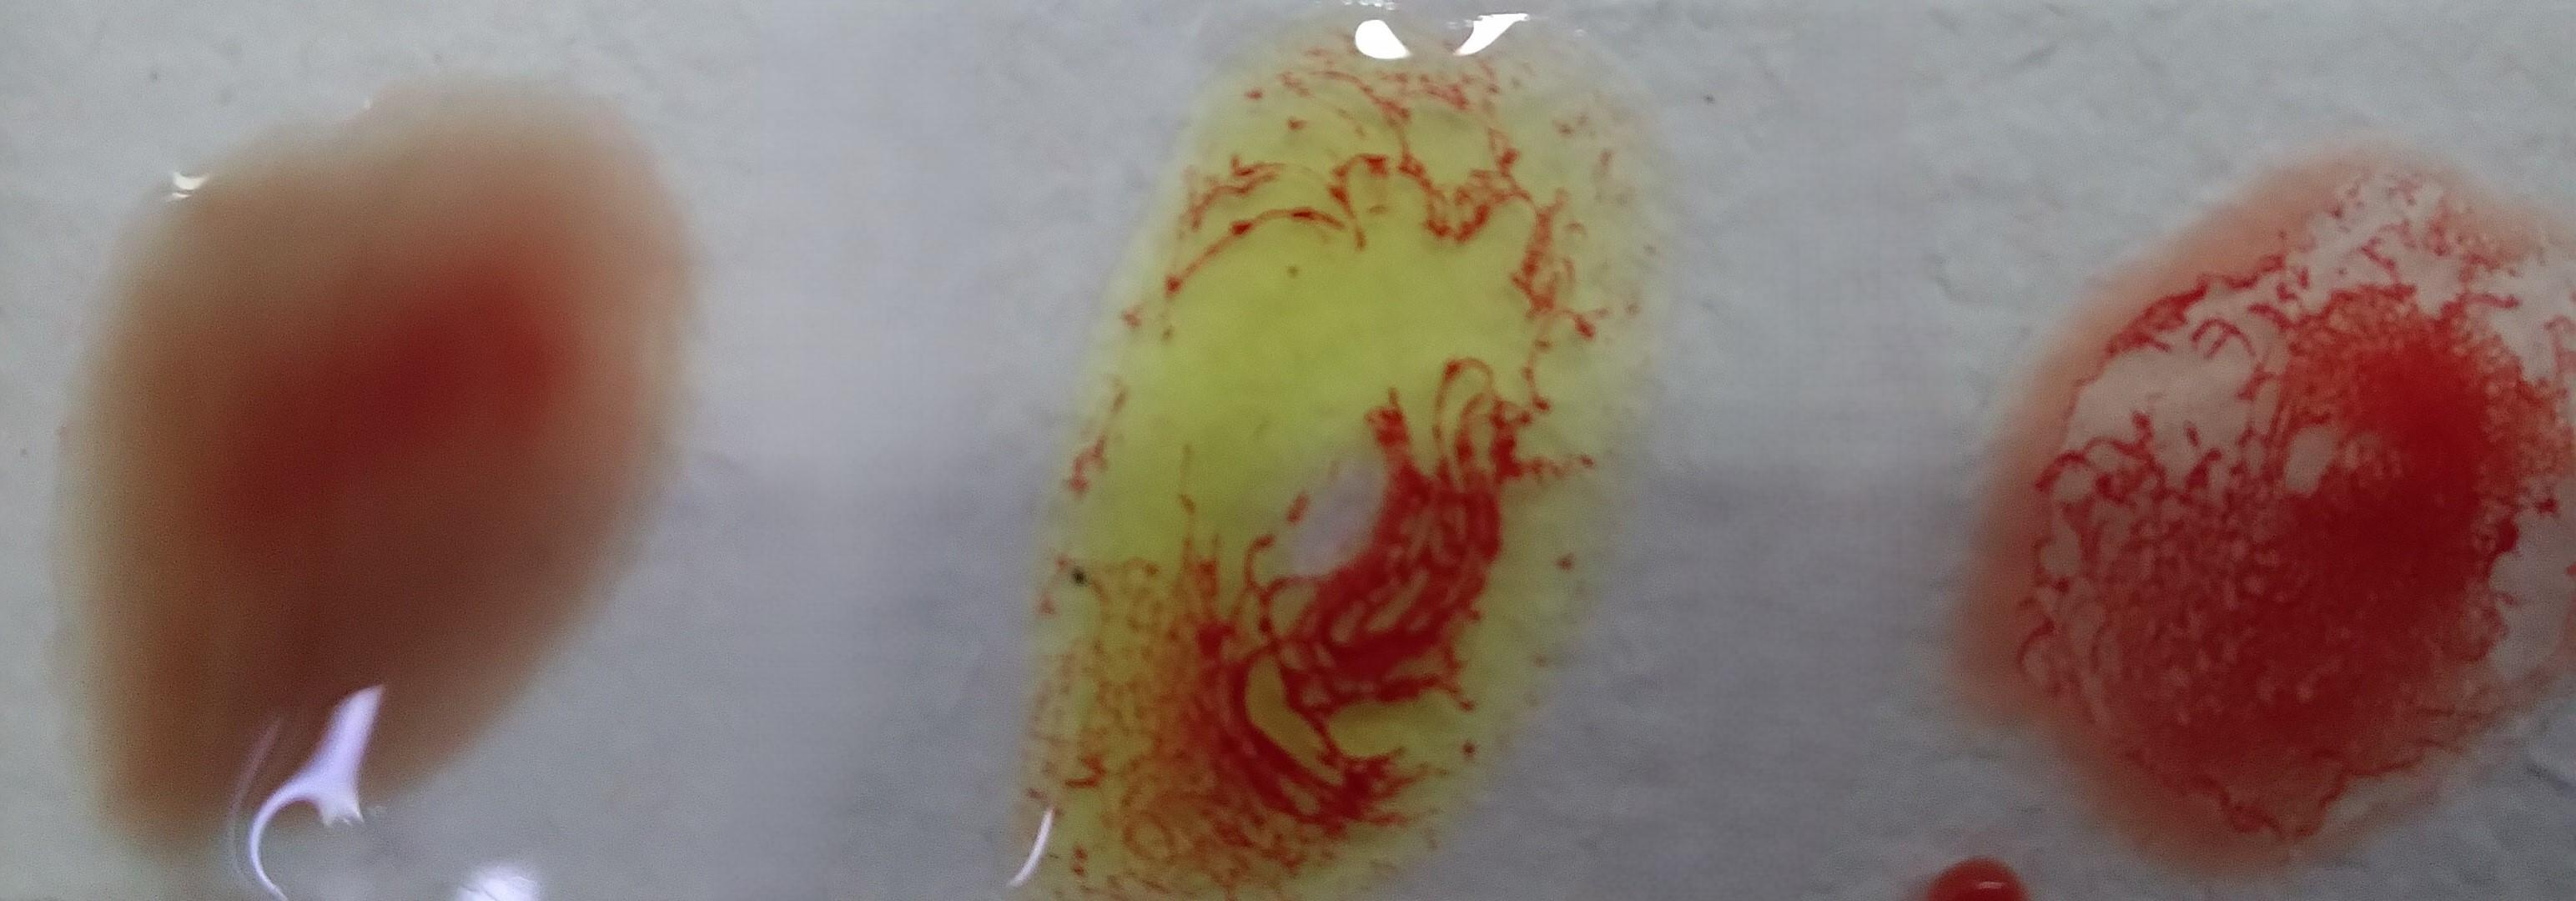B: (1066, 35, 1584, 901)
D: (2003, 183, 2543, 875)
